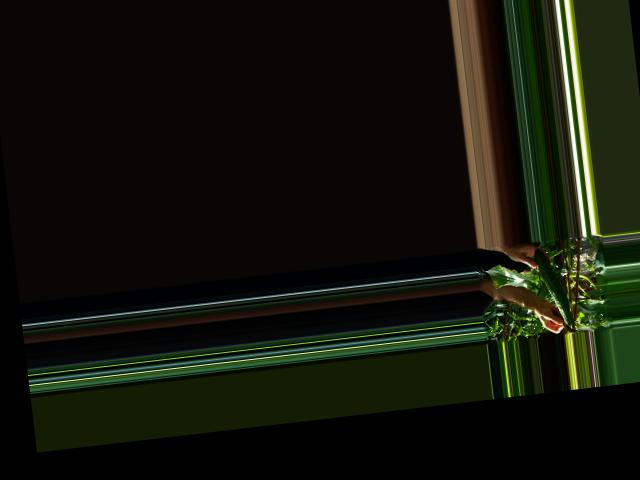cucumber: (533, 246, 572, 327)
